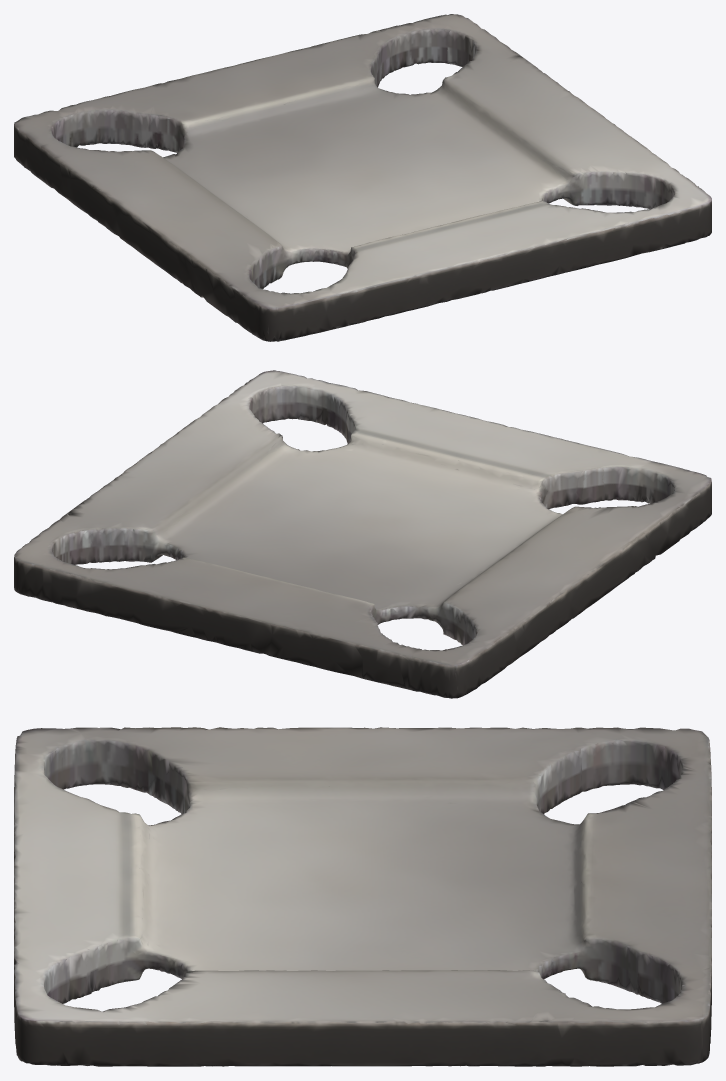
File: engine_mount_plate.glb
The picture shows the model from 3 angles, top to bottom: view 1: azimuth 30°, elevation 25°; view 2: azimuth 150°, elevation 25°; view 3: azimuth 270°, elevation 25°; orthographic projection. The views are drawn at different scales.
Visible parts, largest first — view 1: model; view 2: model; view 3: model.
Part boxes in pixels (x1,y1,x2,y2): model: (14, 14, 711, 341); model: (14, 370, 711, 698); model: (14, 727, 711, 1066).
Bounding box in the file's own units: 1.9 × 0.1374 × 1.9.
1 material, 1 textured.
